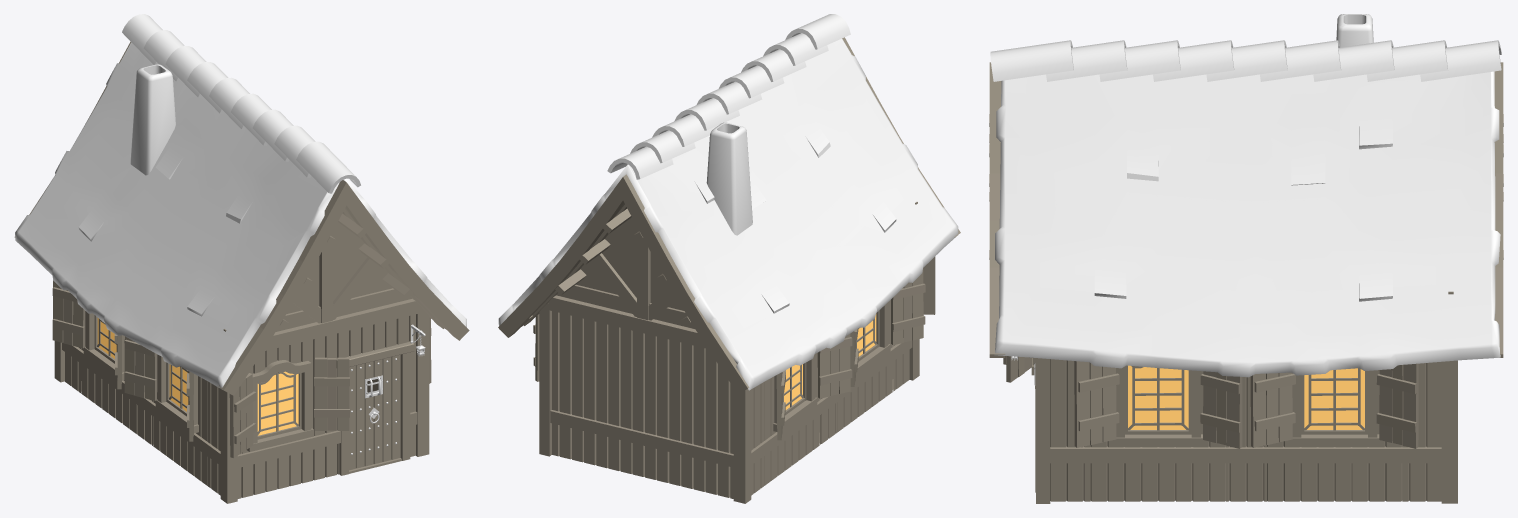
The model's file is gibbetmere_candle_home.glb.
3 views of the same model, side by side, from view 1: azimuth 30°, elevation 25°; view 2: azimuth 150°, elevation 25°; view 3: azimuth 270°, elevation 25° (orthographic). The views are drawn at different scales.
Parts seen in each view (by area): view 1: village/MI_FlatTiles, village/MI_WoodTrim_Wear, village/MI_WoodTrim, village/MI_RoundTiles, village/MI_UnevenBrick, village/MI_WindowGlass, village/MI_MetalOrnaments; view 2: village/MI_FlatTiles, village/MI_WoodTrim_Wear, village/MI_WoodTrim, village/MI_RoundTiles, village/MI_UnevenBrick, village/MI_WindowGlass; view 3: village/MI_FlatTiles, village/MI_WoodTrim_Wear, village/MI_RoundTiles, village/MI_WoodTrim, village/MI_WindowGlass, village/MI_UnevenBrick.
Boxes of the visible parts, x1=… form: village/MI_FlatTiles: x1=15, y1=42, x2=466, y2=389; village/MI_WoodTrim_Wear: x1=52, y1=280, x2=431, y2=498; village/MI_WoodTrim: x1=14, y1=41, x2=469, y2=503; village/MI_RoundTiles: x1=122, y1=14, x2=360, y2=193; village/MI_UnevenBrick: x1=130, y1=64, x2=175, y2=175; village/MI_WindowGlass: x1=97, y1=318, x2=298, y2=435; village/MI_MetalOrnaments: x1=351, y1=358, x2=396, y2=454; village/MI_FlatTiles: x1=498, y1=38, x2=958, y2=390; village/MI_WoodTrim_Wear: x1=533, y1=256, x2=935, y2=498; village/MI_WoodTrim: x1=498, y1=37, x2=960, y2=503; village/MI_RoundTiles: x1=607, y1=14, x2=850, y2=179; village/MI_UnevenBrick: x1=706, y1=122, x2=752, y2=235; village/MI_WindowGlass: x1=784, y1=314, x2=876, y2=409; village/MI_FlatTiles: x1=994, y1=71, x2=1500, y2=377; village/MI_WoodTrim_Wear: x1=1003, y1=356, x2=1441, y2=501; village/MI_RoundTiles: x1=990, y1=40, x2=1501, y2=81; village/MI_WoodTrim: x1=989, y1=62, x2=1503, y2=503; village/MI_WindowGlass: x1=1128, y1=365, x2=1364, y2=429; village/MI_UnevenBrick: x1=1336, y1=14, x2=1373, y2=47.
Size of the model in its own units: 5.7 by 6.53 by 7.59.
